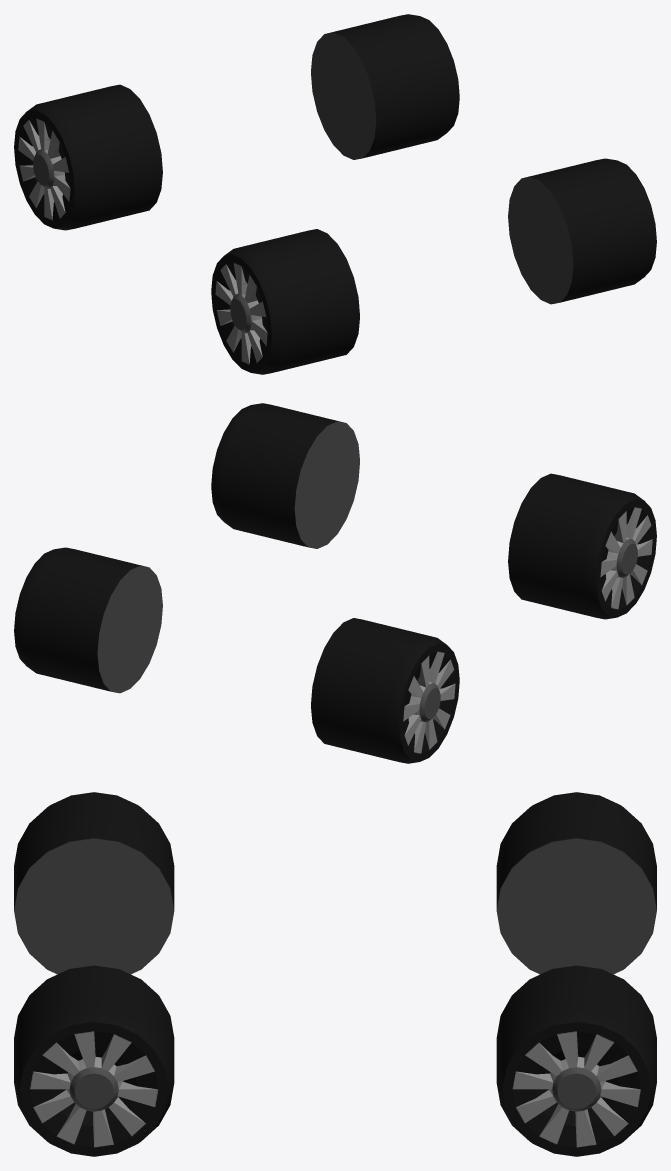
Rendered from SPORT-WHEELS-c5FI2tb1.glb.
3 views of the same model, one above another, from view 1: azimuth 30°, elevation 25°; view 2: azimuth 150°, elevation 25°; view 3: azimuth 270°, elevation 25° (orthographic). The views are drawn at different scales.
Bounding box in the file's own units: 1.72 × 0.4986 × 2.
Materials: 1 (1 with a texture image).
